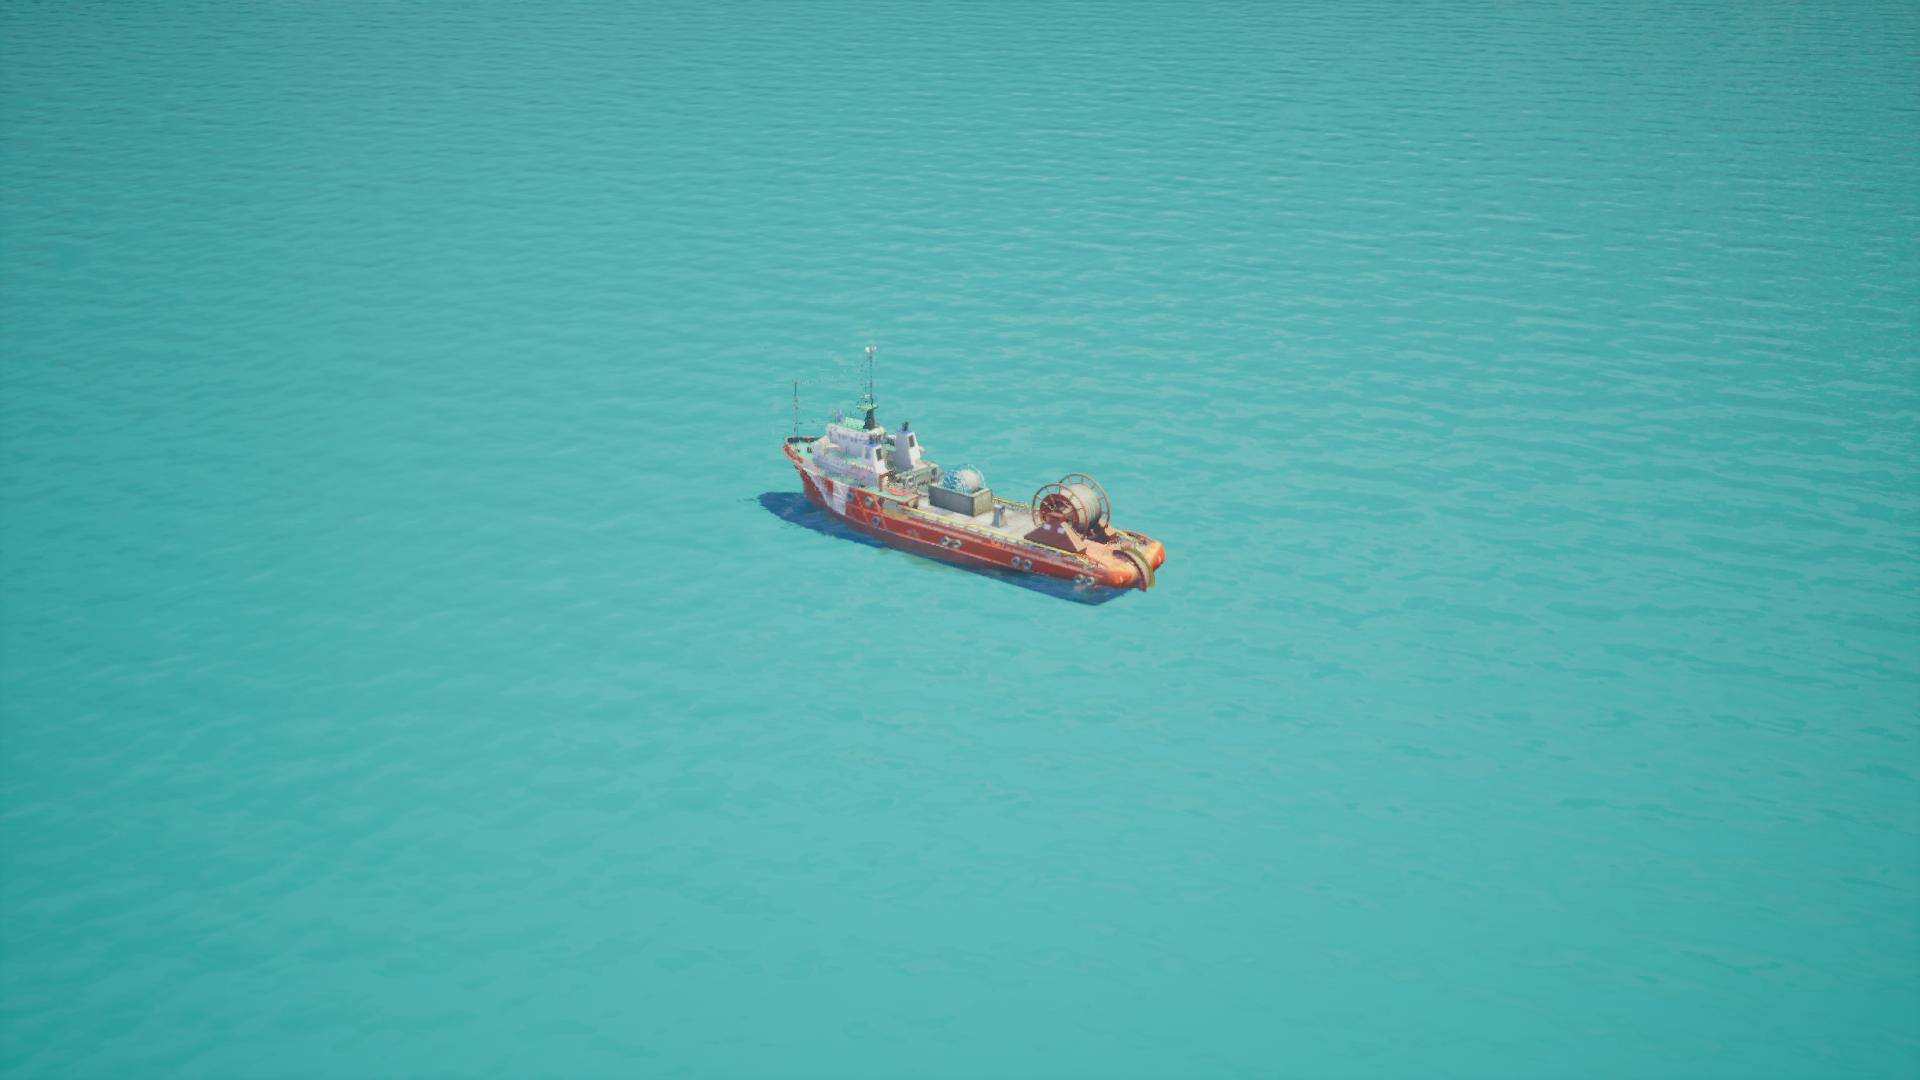Tug Boat: (760, 338, 1163, 609)
